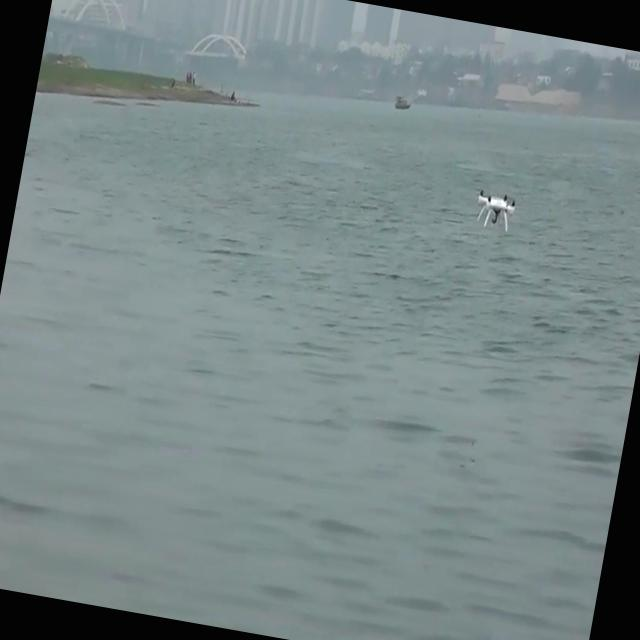drone: (472, 184, 518, 233)
